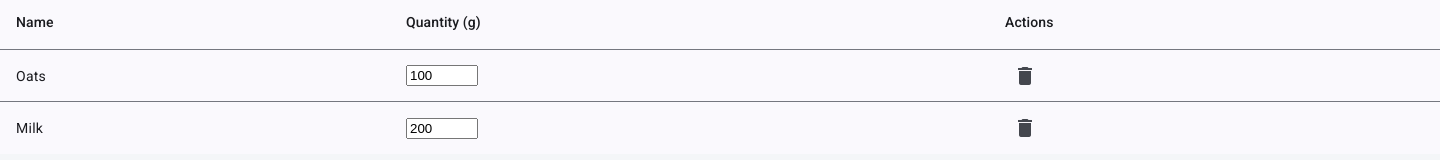
Test: MealDetailsComponent › clamps out-of-range values in the input
Step 1. Replace the text in the number field named "Quantity in grams for Oats" with "50000" → (442, 76), box [406,65,478,86]
Wait 500 ms
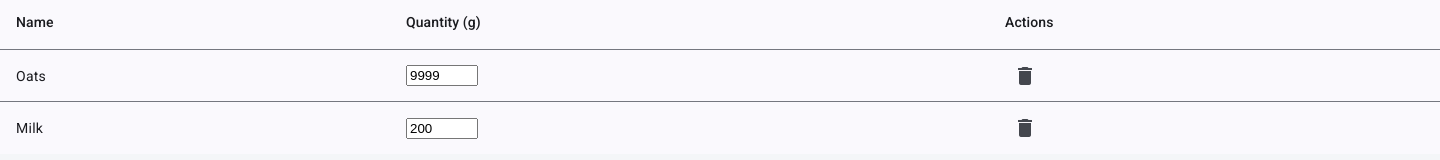
expect the number field named "Quantity in grams for Oats" holds "9999": met, box [406,65,478,86]
